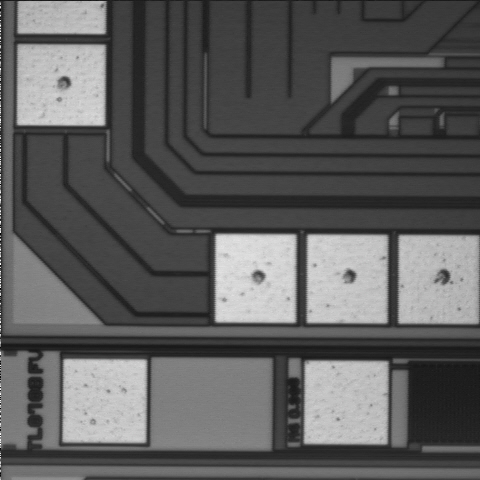pad: (18, 45, 105, 125), (216, 235, 296, 322), (308, 235, 387, 323), (63, 359, 146, 442), (305, 361, 387, 444), (399, 236, 477, 323)
